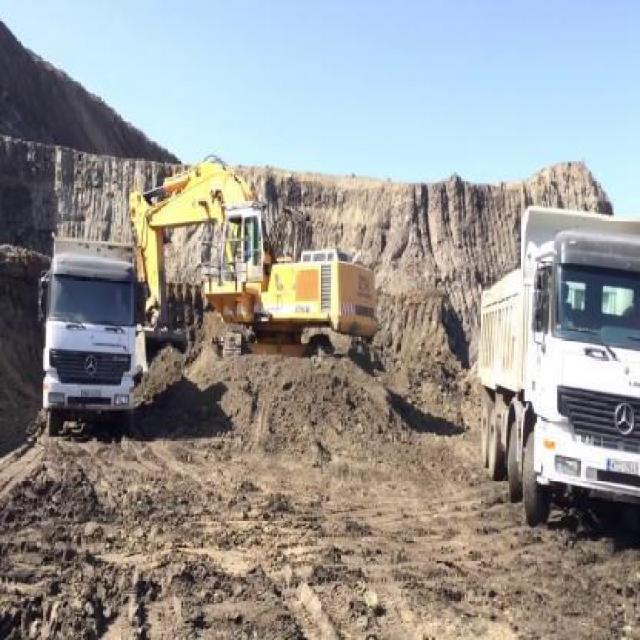Dump Truck: (475, 204, 637, 528), (37, 230, 140, 435)
Excavator: (121, 146, 384, 360)
